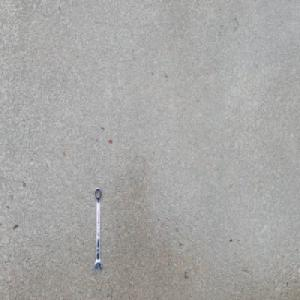Wrench: (93, 186, 103, 275)
